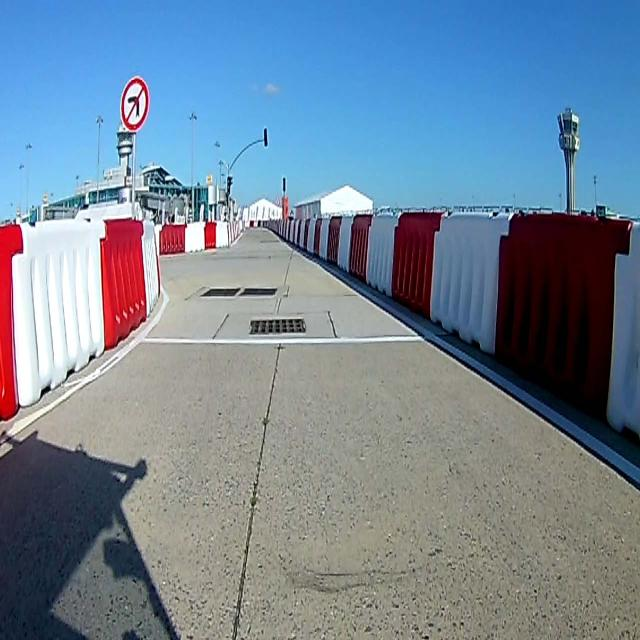soladonulmez: (120, 75, 150, 134)
